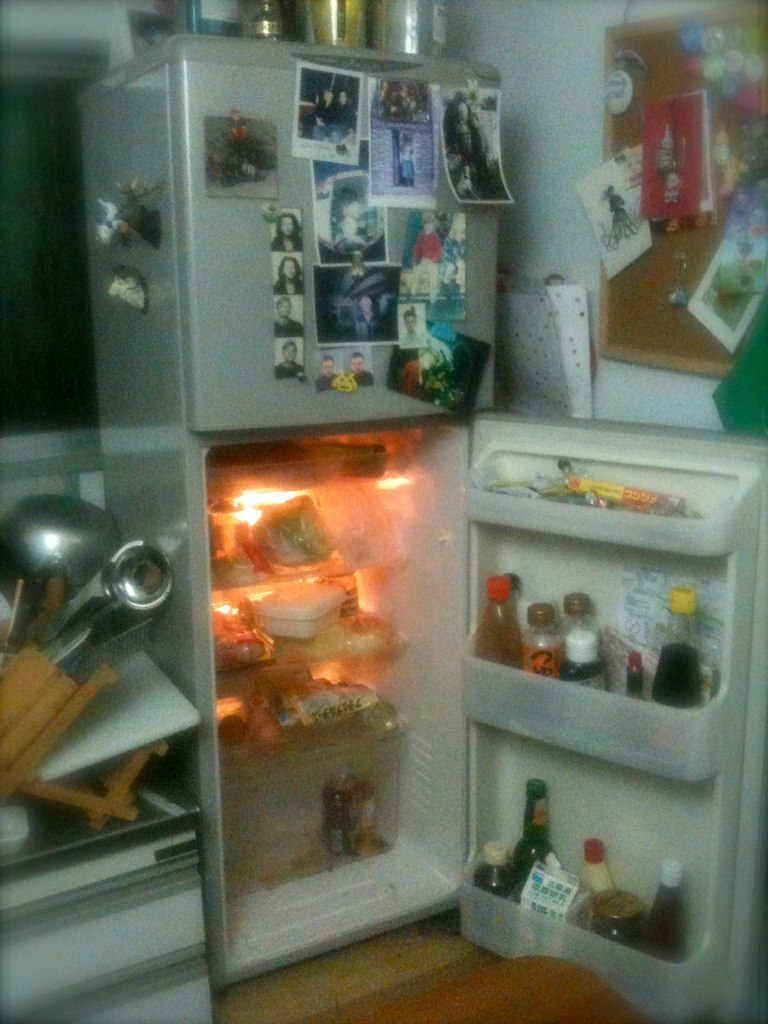refrigerator door: (483, 434, 755, 994), (187, 80, 494, 400)
